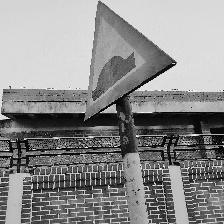Speed-breaker: (83, 4, 175, 126)
